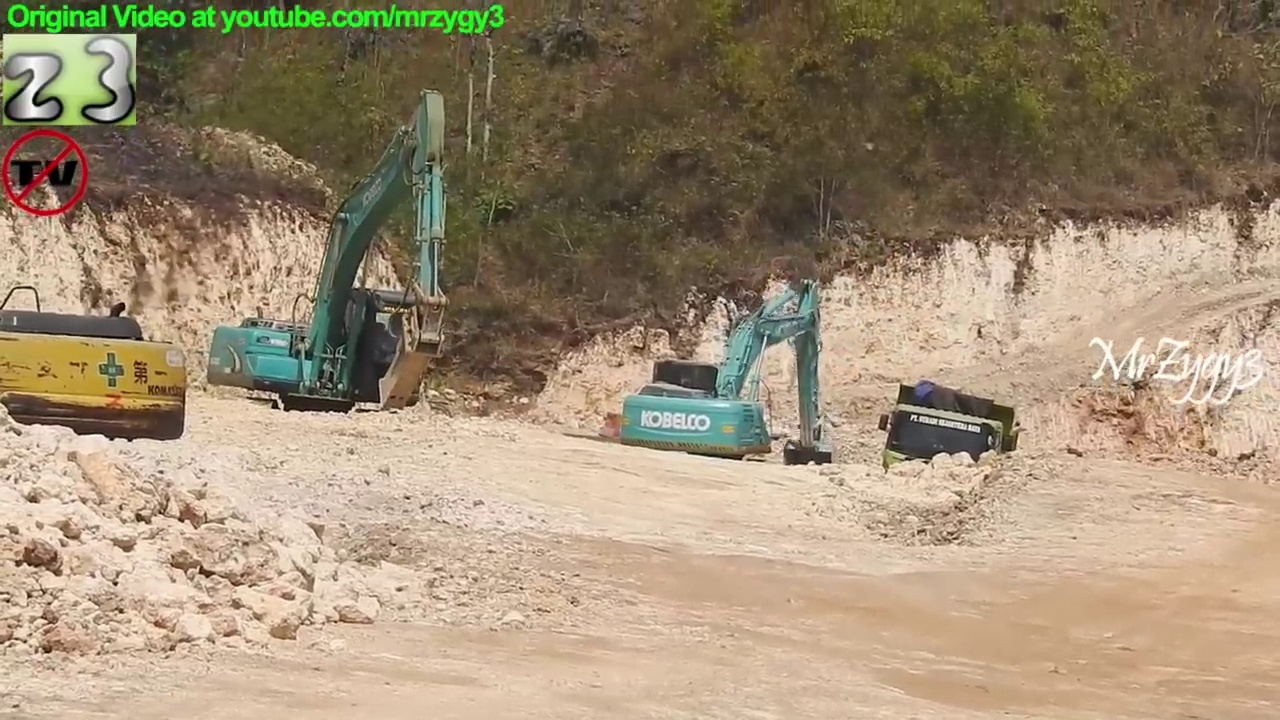excavator: (200, 83, 464, 441), (607, 272, 840, 498), (1, 279, 196, 451)
truck: (874, 374, 1030, 527)
